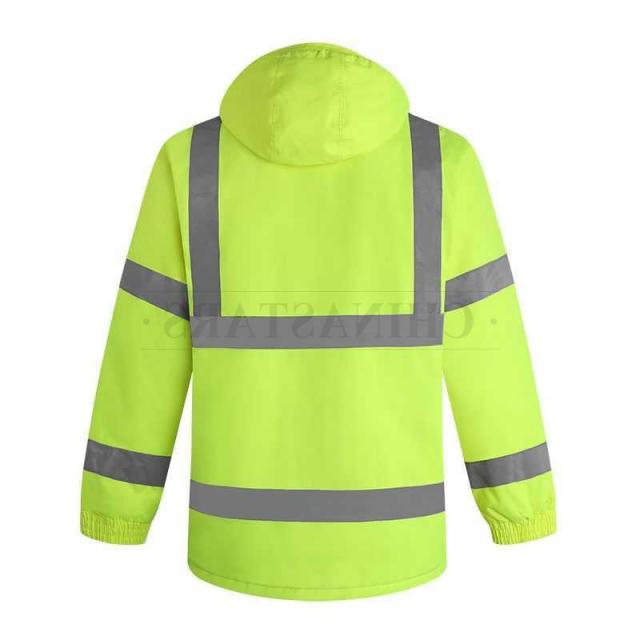Reflective-Jacket: (51, 53, 577, 615)
